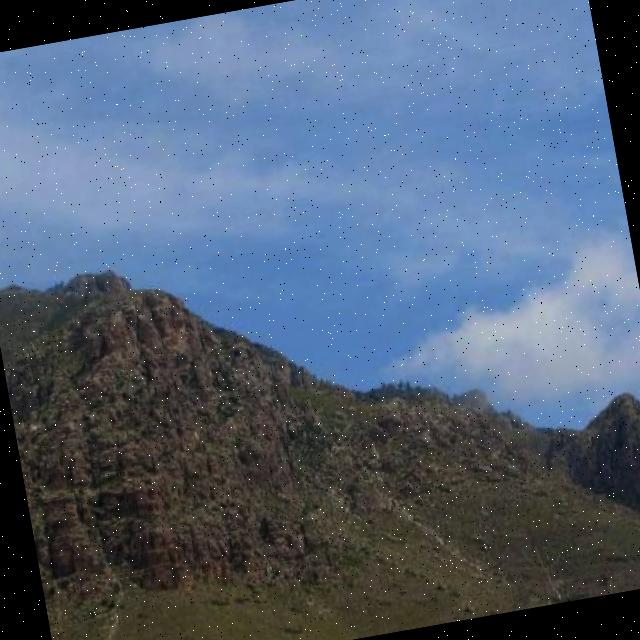Cs: (122, 1, 624, 278)
